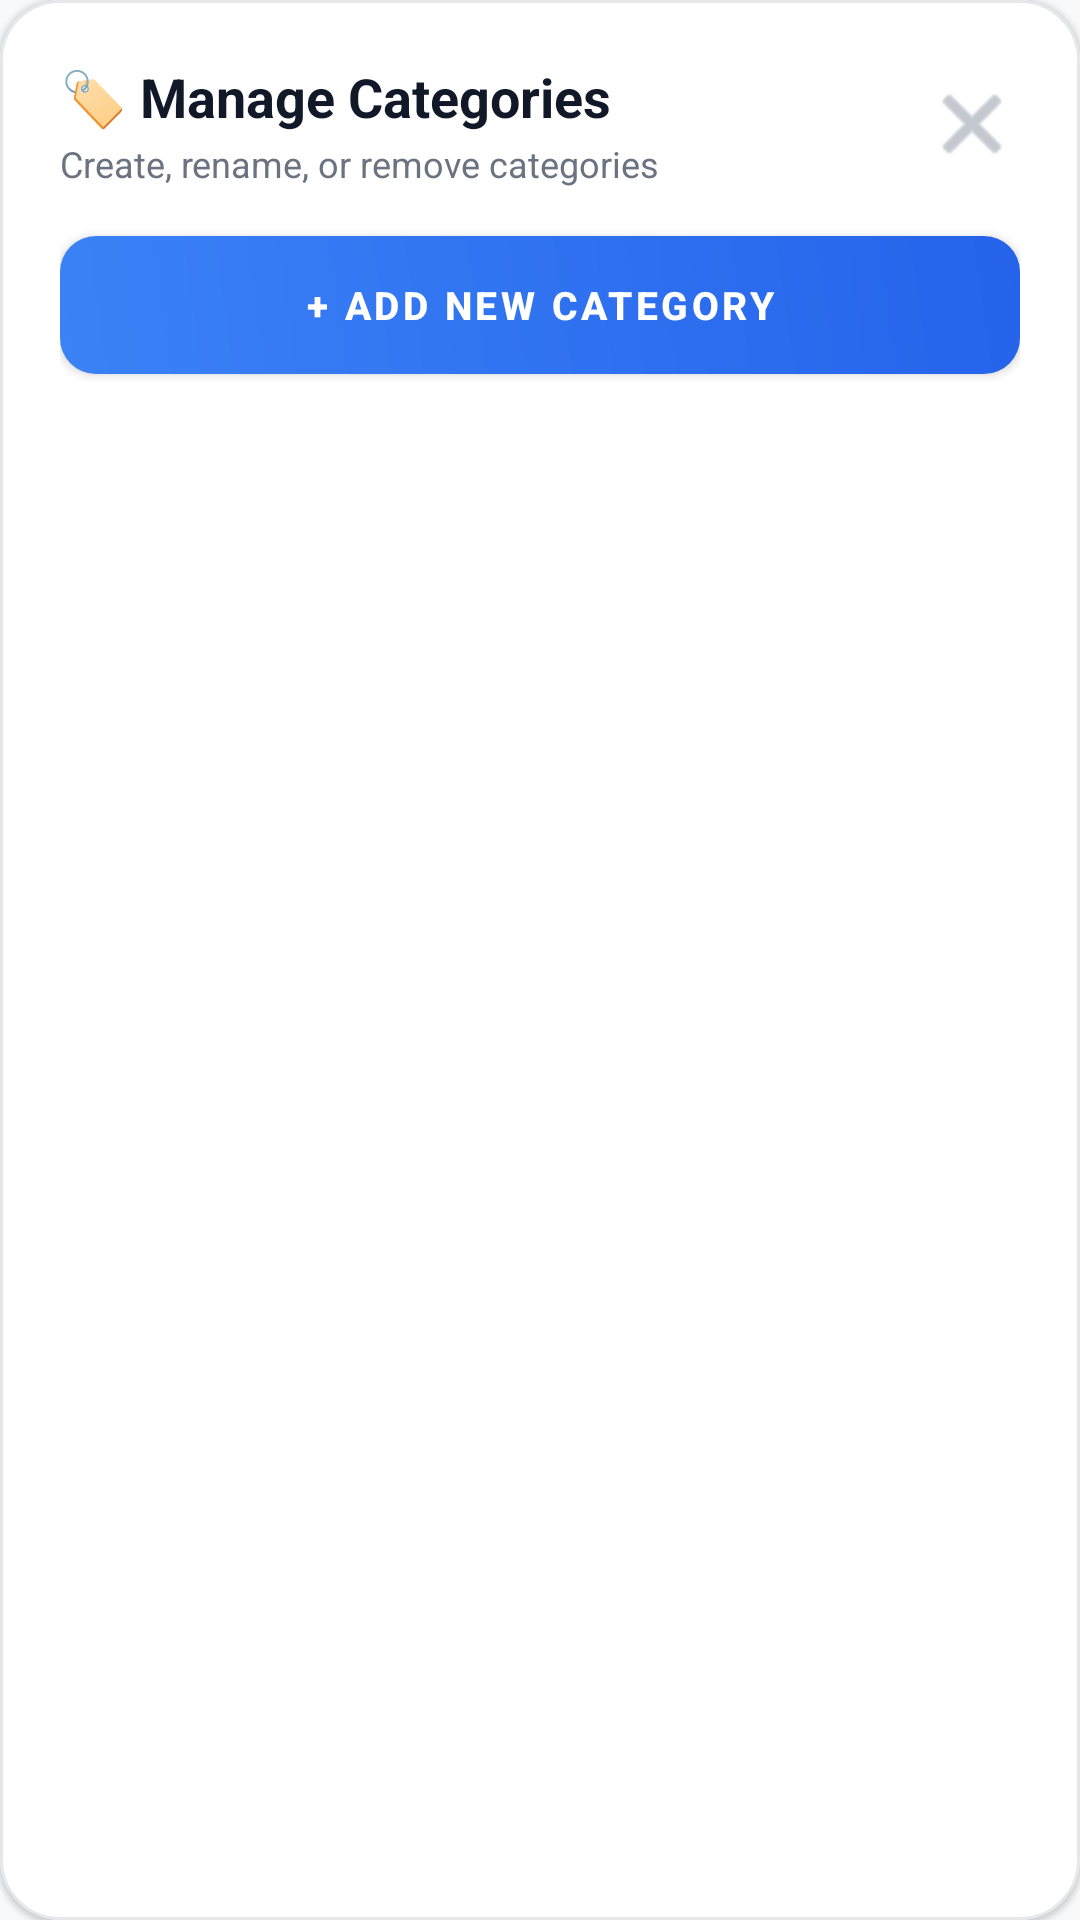

Icon click points for this 1080 × 1920 phone screenshot, format point (x, y):
Close: point (972, 124)
